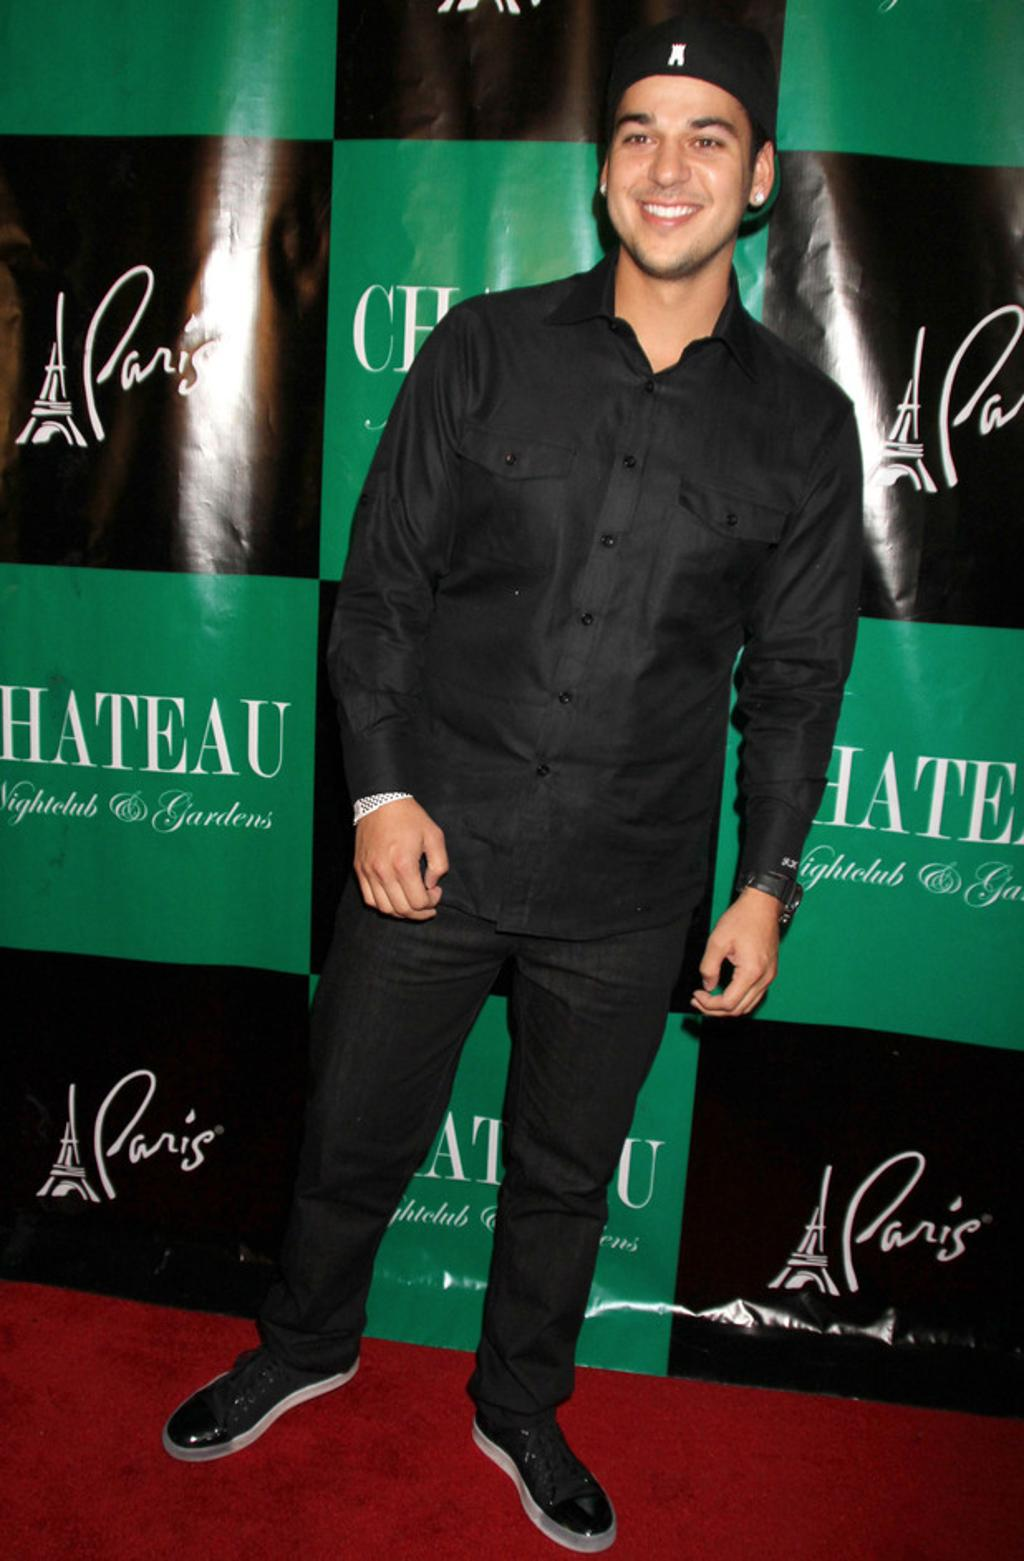face: (613, 91, 738, 277)
